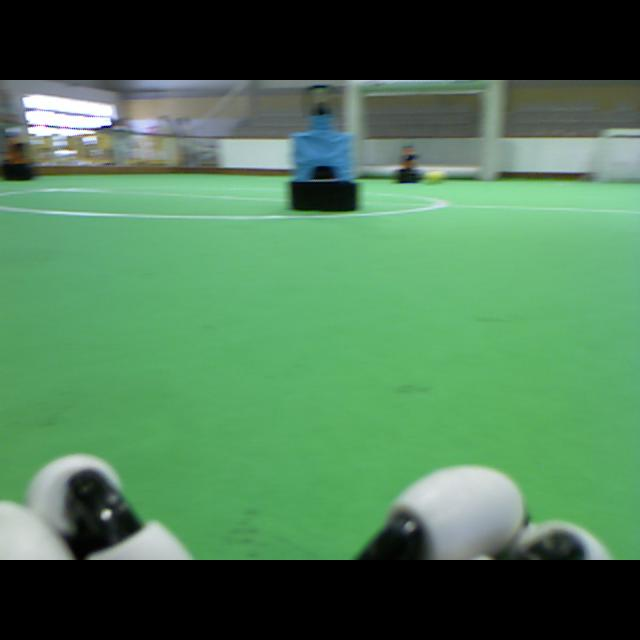ball: (427, 172, 440, 185)
goal: (602, 128, 609, 184)
robot: (3, 141, 34, 180), (398, 141, 421, 185)
